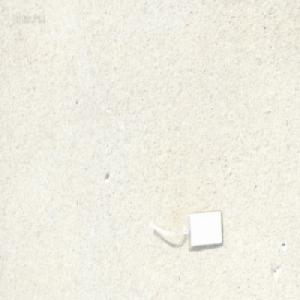LuggageTag: (146, 206, 222, 249)
